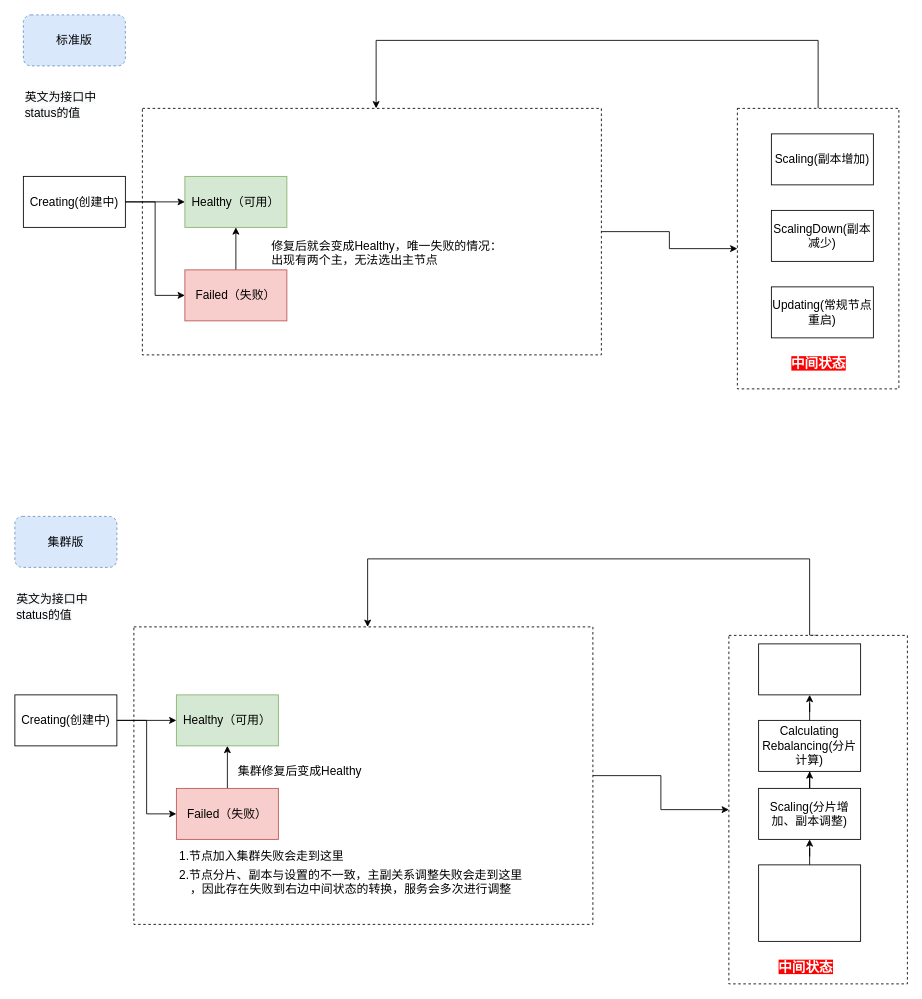
Image size: 922x999. Some labels were removed from this diagram. Here are the shapes that lost their labels. From the top down, the box of each, then its label:
(758, 643, 861, 695): Rebalancing(分片调整)
(758, 864, 861, 941): RollingUpdate(crd实例修改后先跳这里，常规pod更新为这个状态)
